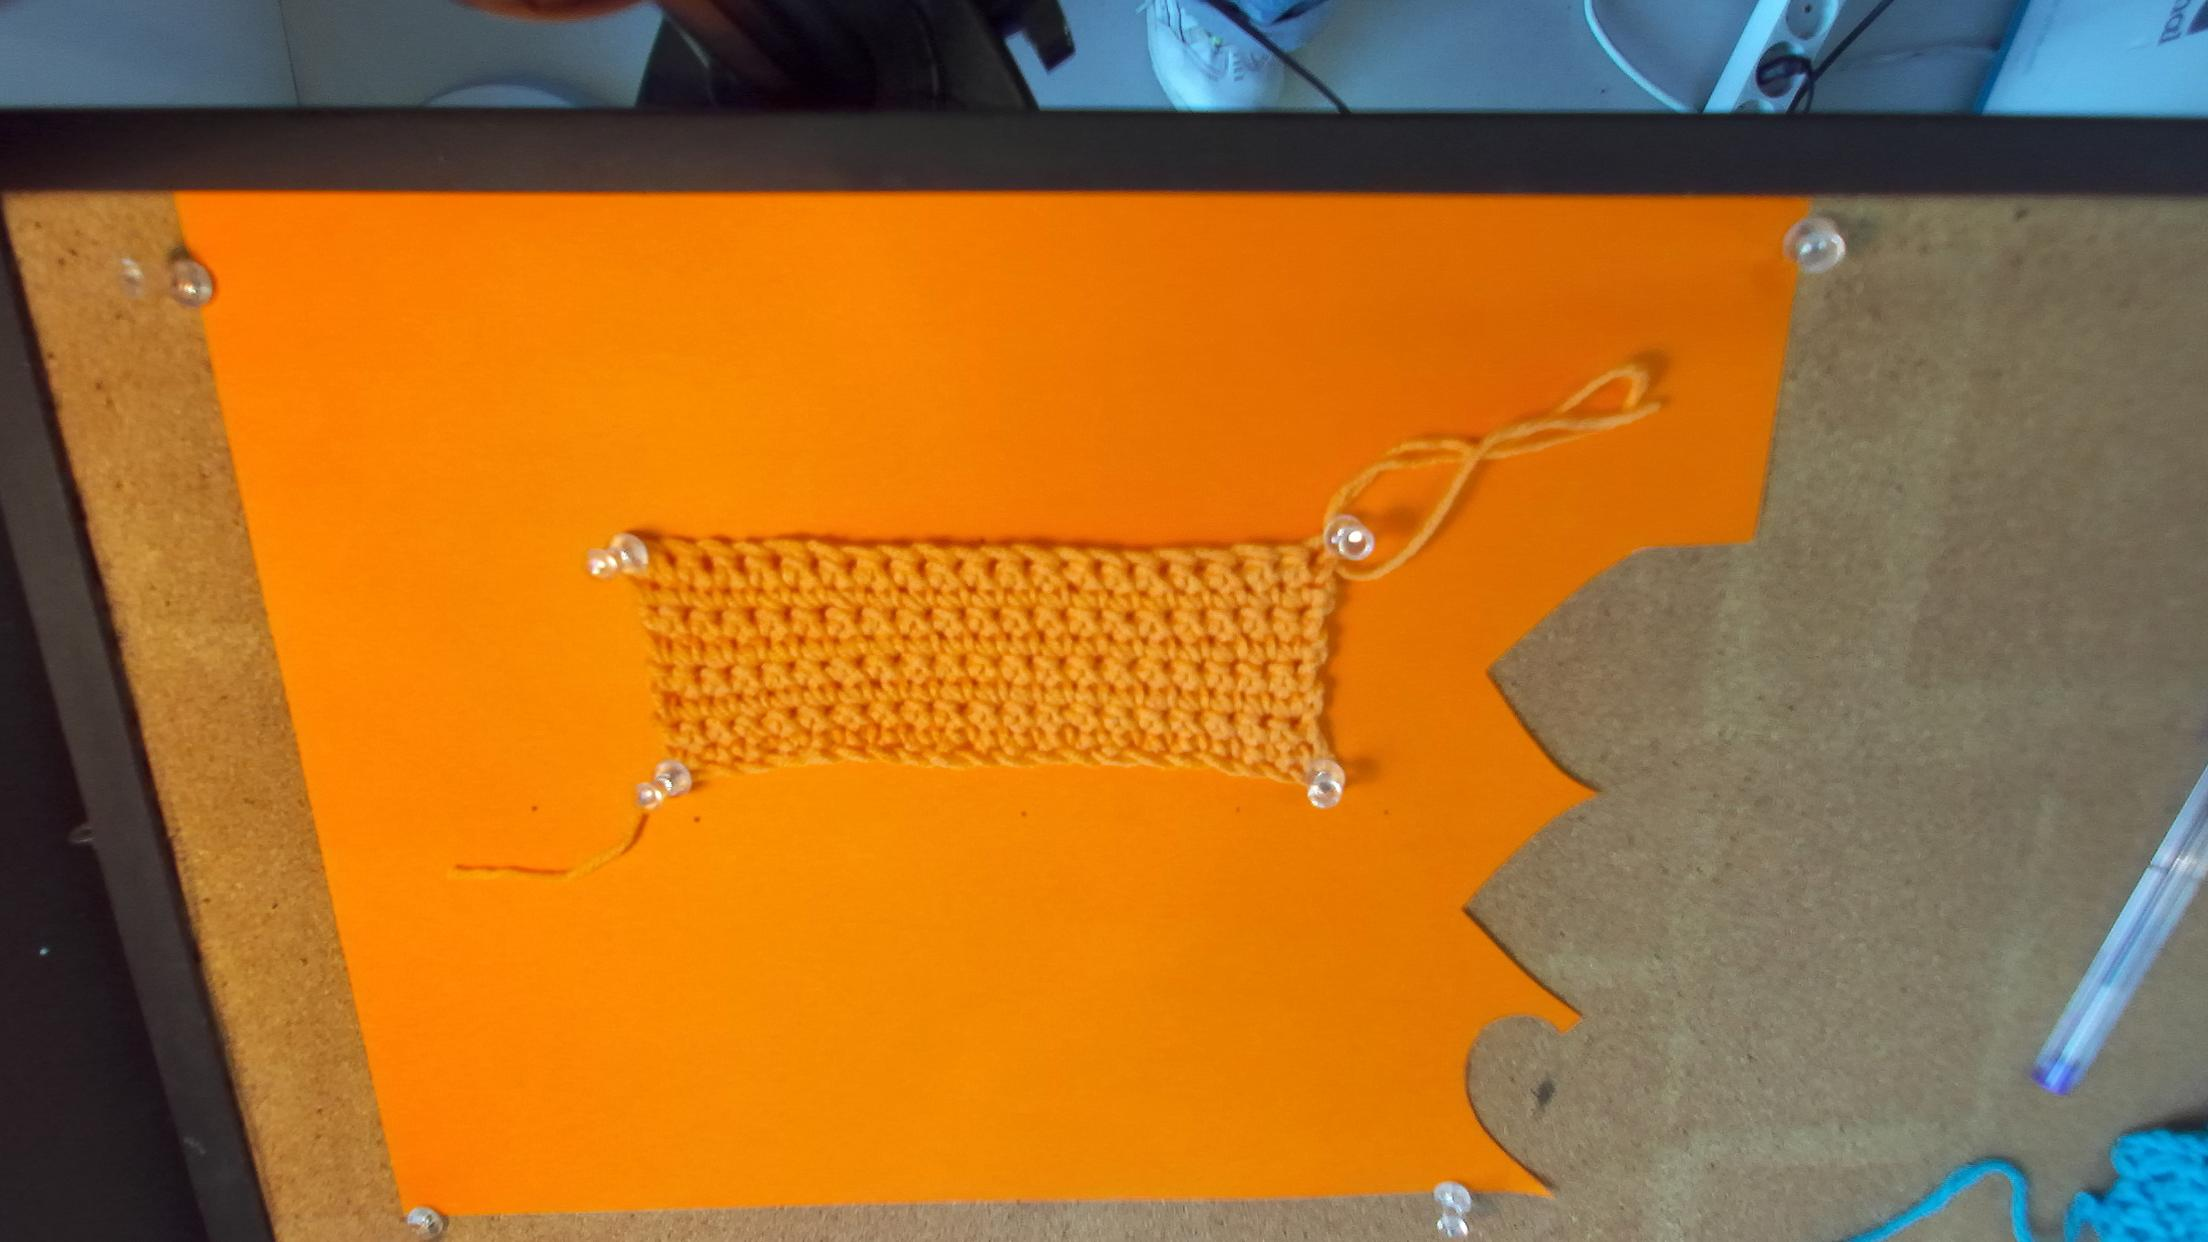hole: (732, 554, 749, 576), (769, 549, 783, 573), (1193, 558, 1212, 576), (663, 547, 678, 569), (1307, 549, 1322, 570), (845, 557, 860, 576), (702, 550, 714, 575), (987, 558, 1001, 578), (810, 552, 820, 576), (1092, 560, 1104, 581), (916, 557, 930, 575), (1157, 561, 1171, 579), (1231, 558, 1247, 573), (1024, 557, 1034, 578), (883, 558, 893, 578), (954, 558, 964, 576), (1055, 560, 1069, 572), (1128, 561, 1137, 579), (1272, 558, 1283, 573)
swatch: (588, 526, 1366, 808)
